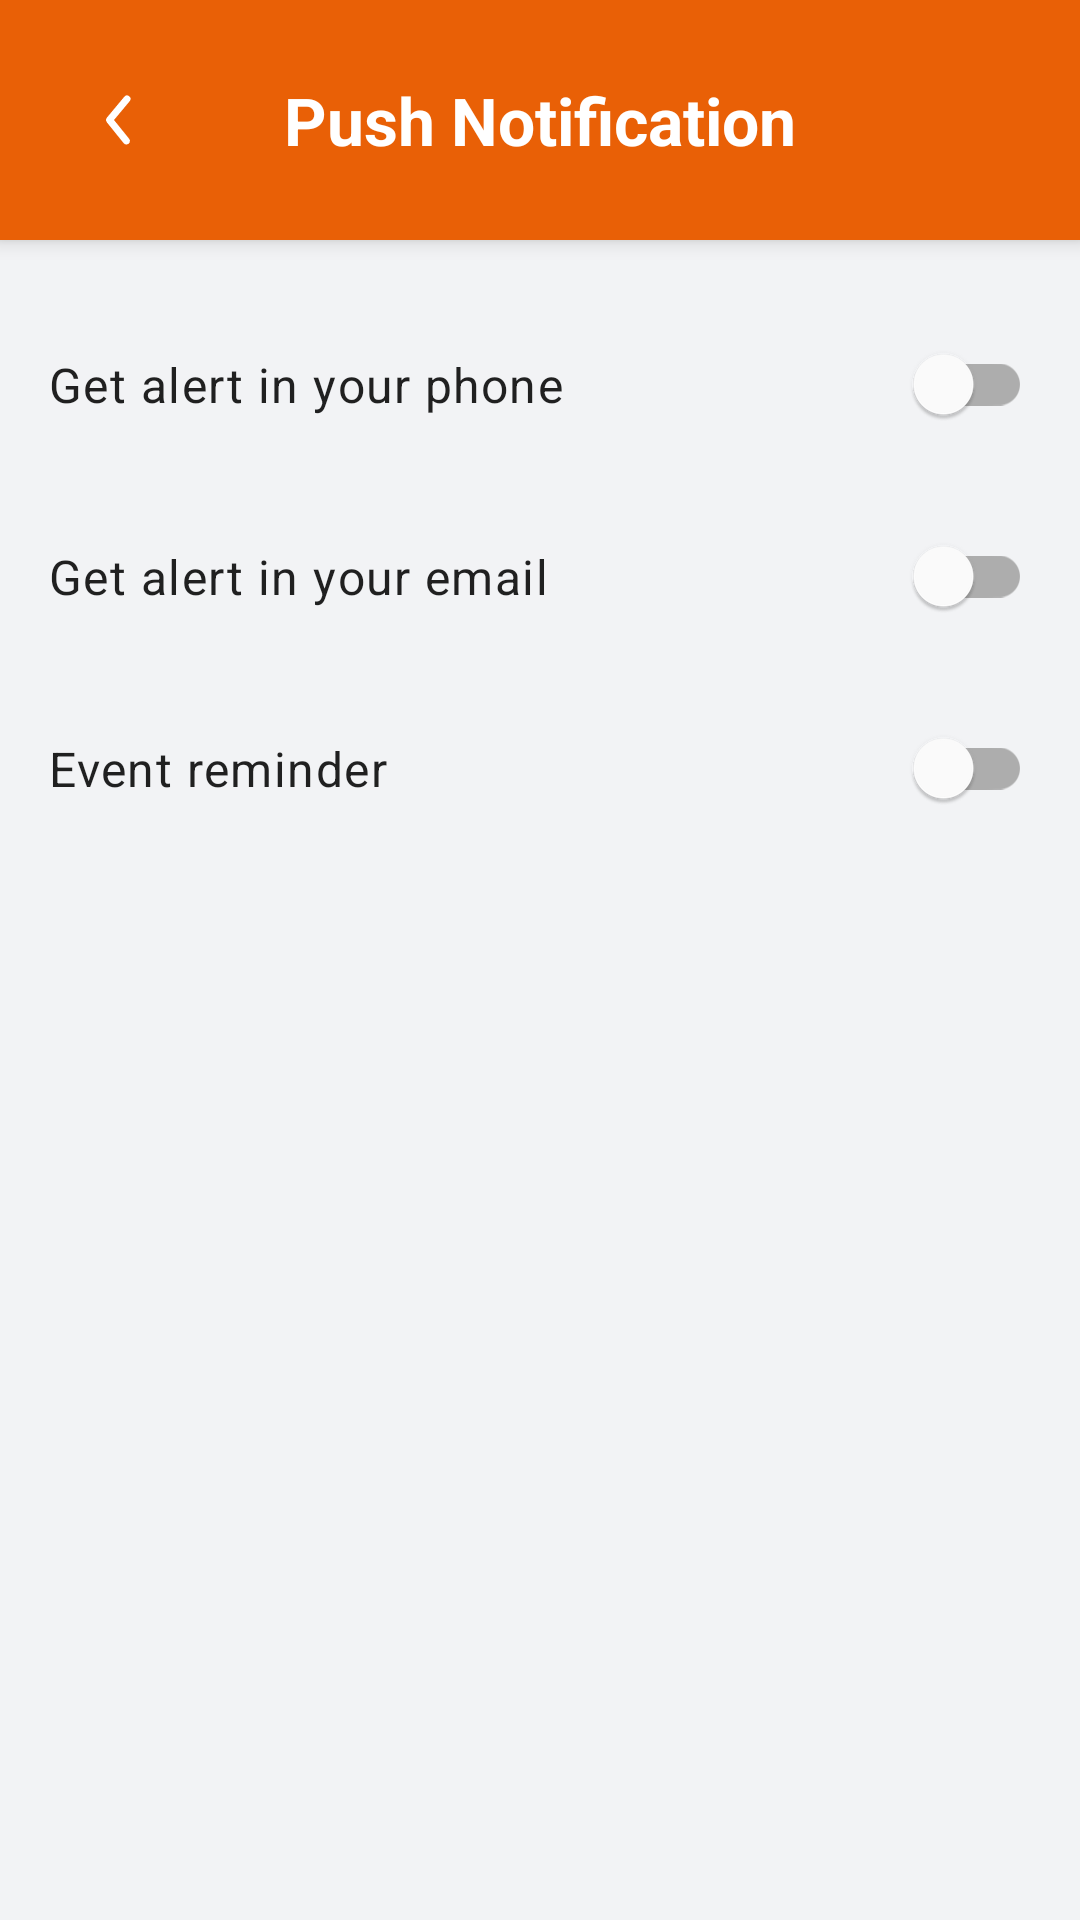

Where to tap for icons on this 1080w x 1920h app screen, as (x=x, y=y):
Back: (x=118, y=120)
